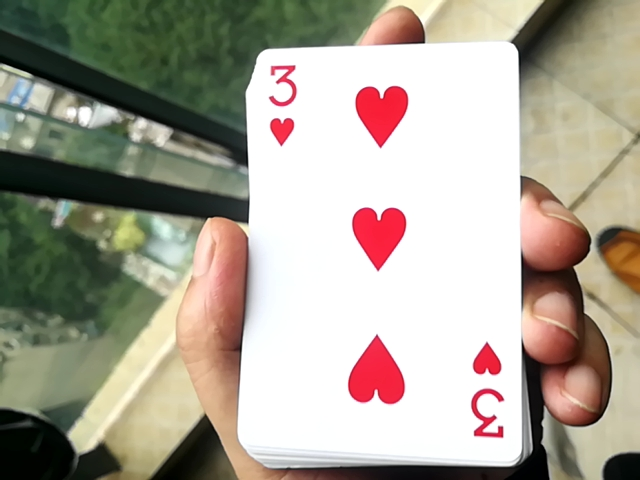hx 3: (218, 34, 526, 476)
